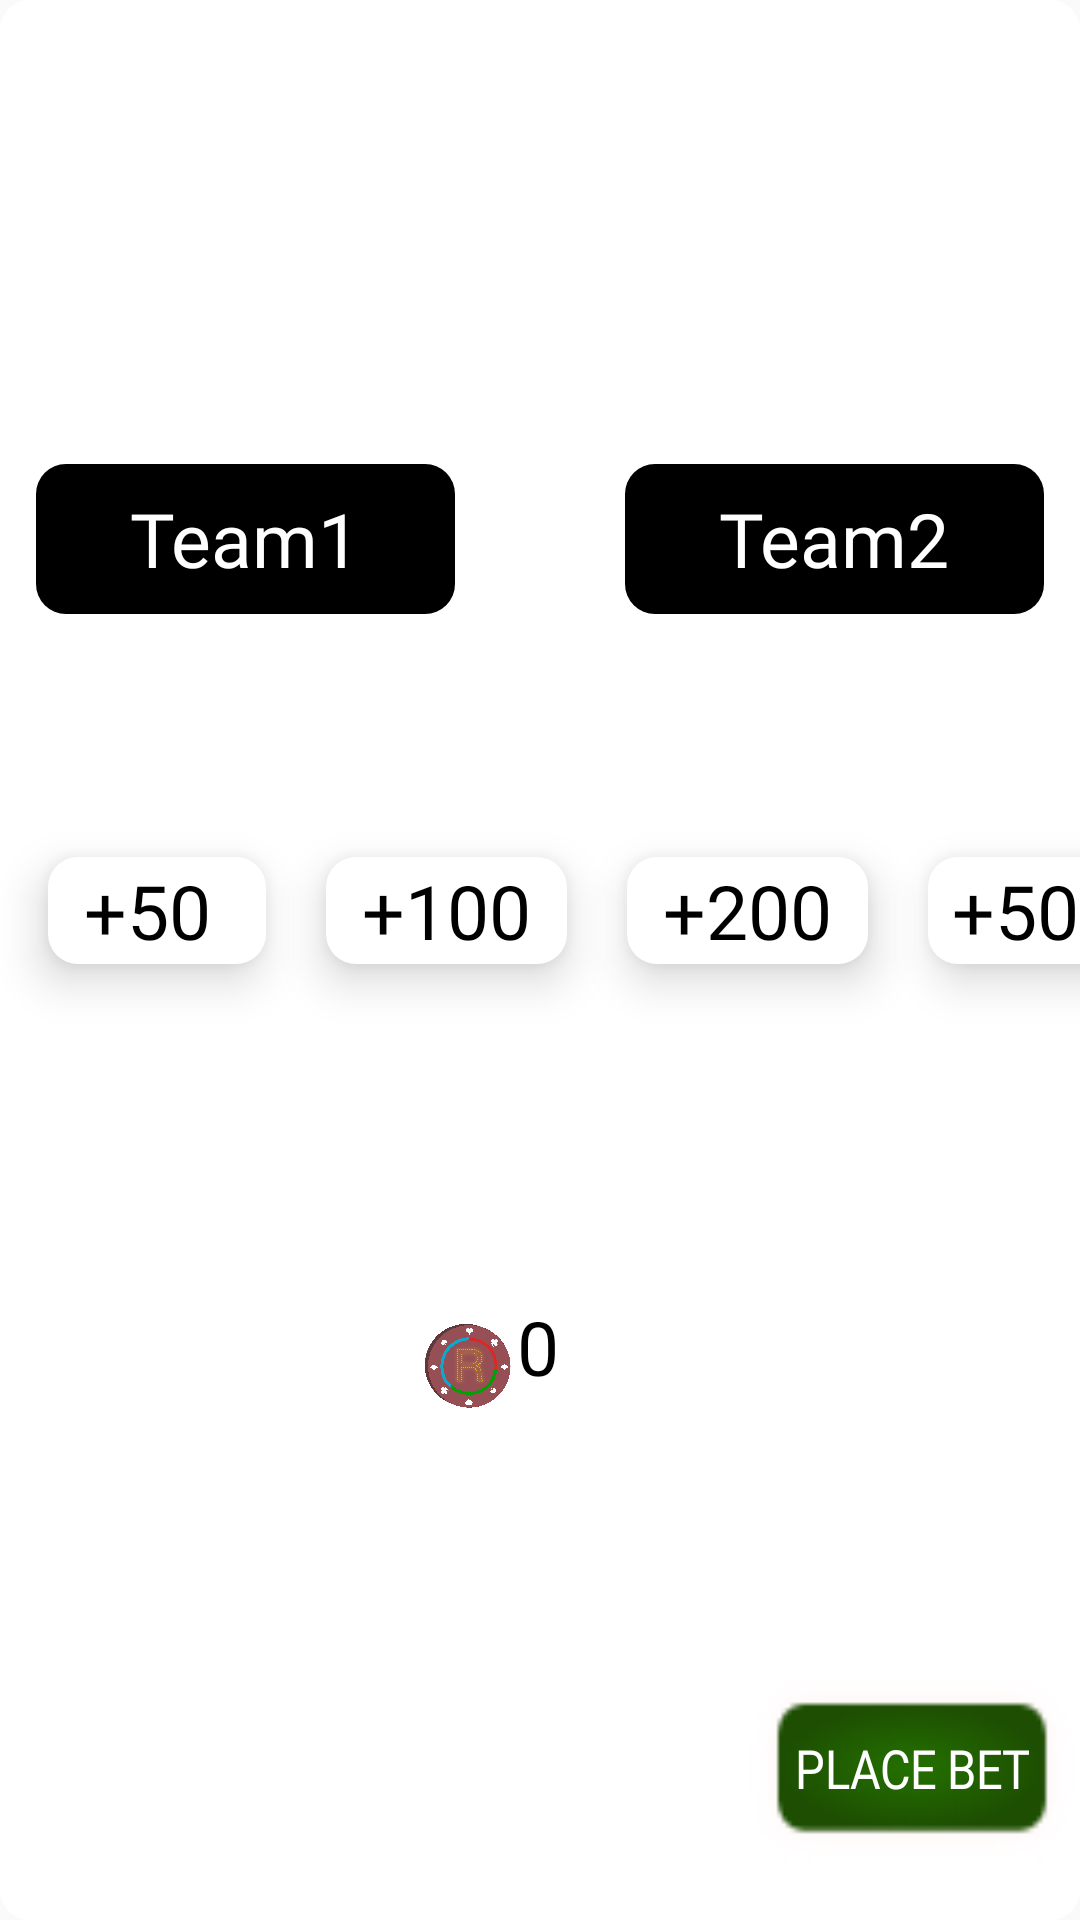

Screen size 1080 x 1920. Icon name, then its box in pixels as (x1, y1, x2, y2):
pokerchip: (425, 1324, 511, 1408)
